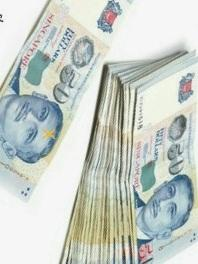50SingaporeDollar: (132, 71, 198, 264)
